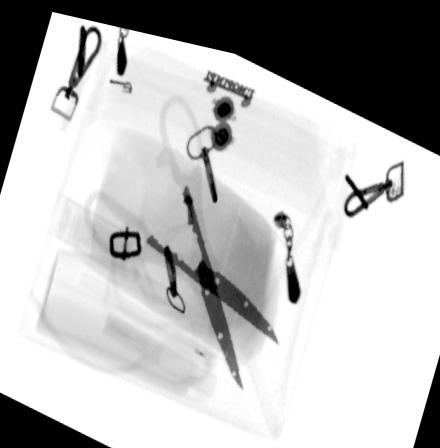Scissors: (80, 85, 279, 380)
